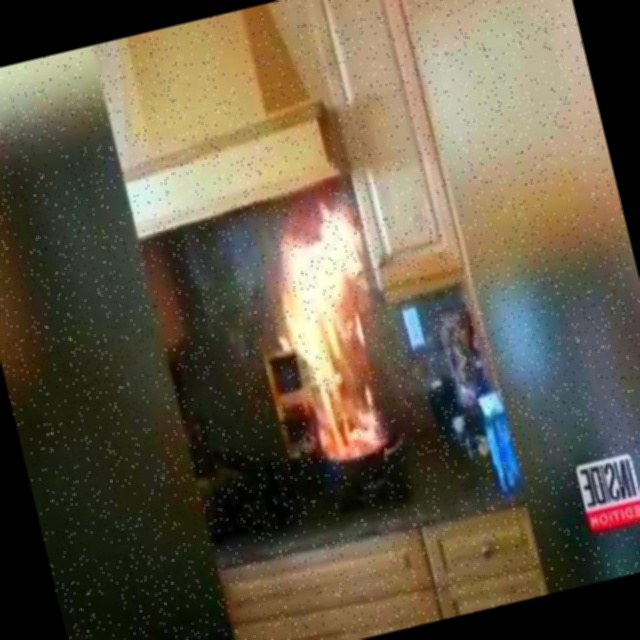fire: (228, 177, 437, 497)
